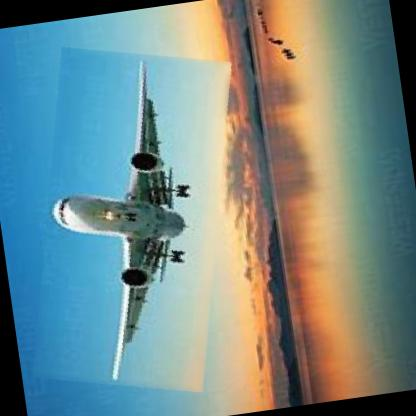plane: (5, 33, 257, 404)
